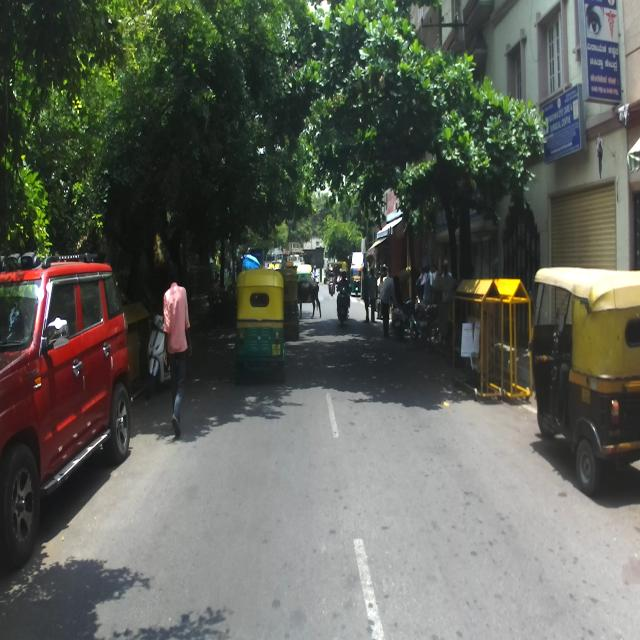auto ahead at: (527, 261, 640, 490), (234, 265, 286, 385)
barrier ahead at: (449, 277, 530, 399)
car ahead at: (0, 246, 136, 548)
person ahead at: (159, 266, 198, 438)
